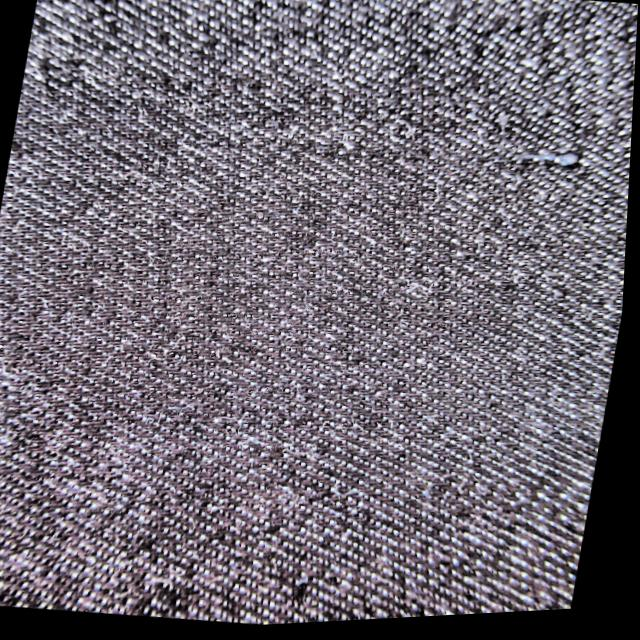Hole: (507, 120, 616, 215)
